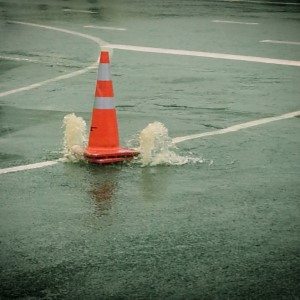traffic cone: (70, 51, 140, 165)
